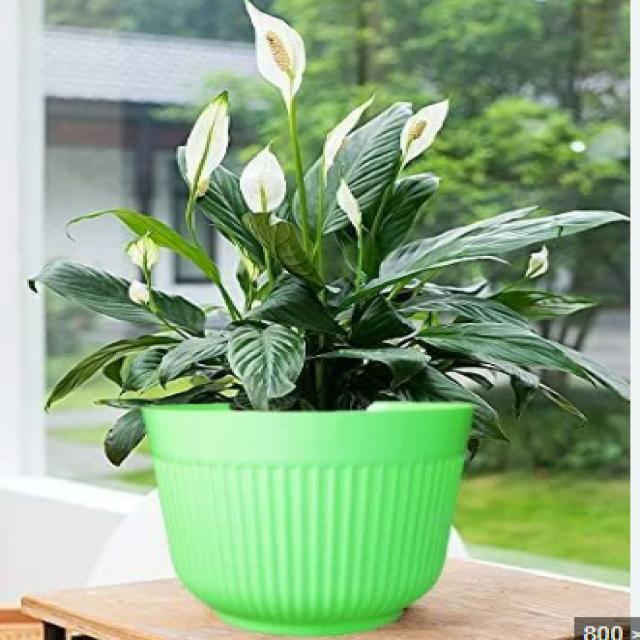Plant Pot: (131, 390, 524, 640)
